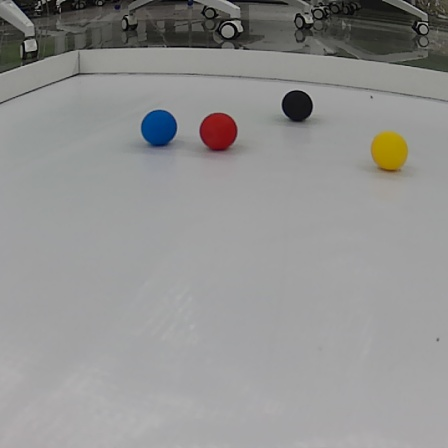blue: (138, 107, 180, 150)
red: (197, 112, 240, 151)
yellow: (371, 131, 411, 174)
